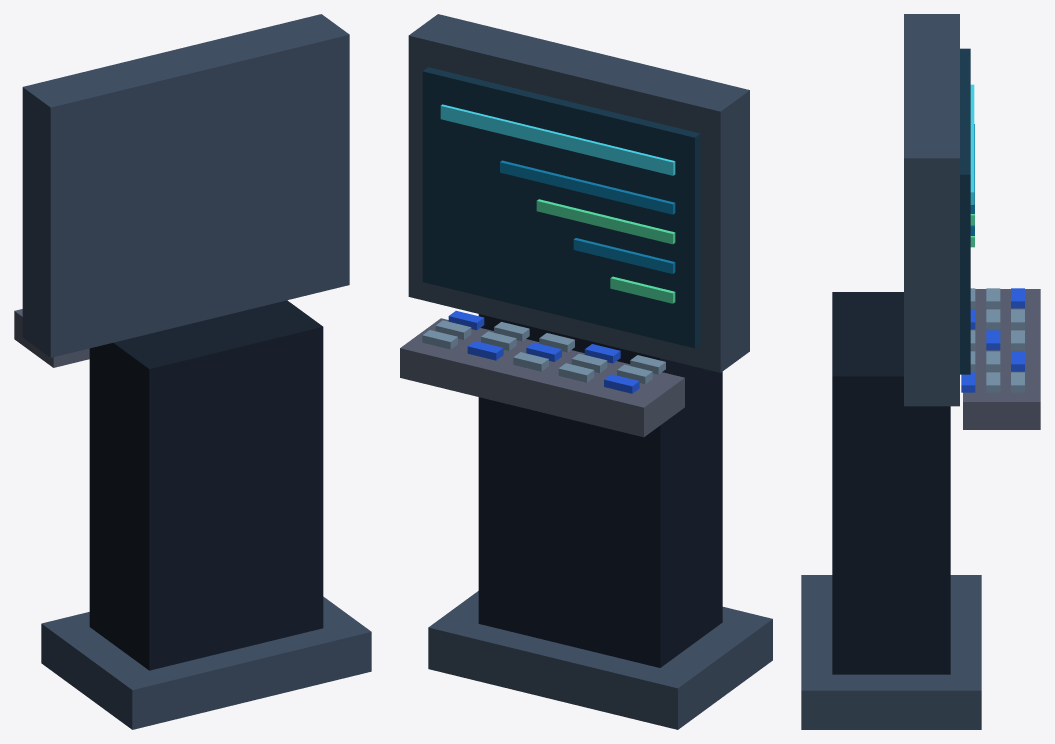
Rendered from env_terminal.obj.
3 views of the same model, side by side, from view 1: azimuth 30°, elevation 25°; view 2: azimuth 150°, elevation 25°; view 3: azimuth 270°, elevation 25° (orthographic). The views are drawn at different scales.
Size of the model in its own units: 1.1 by 2.08 by 0.77.
